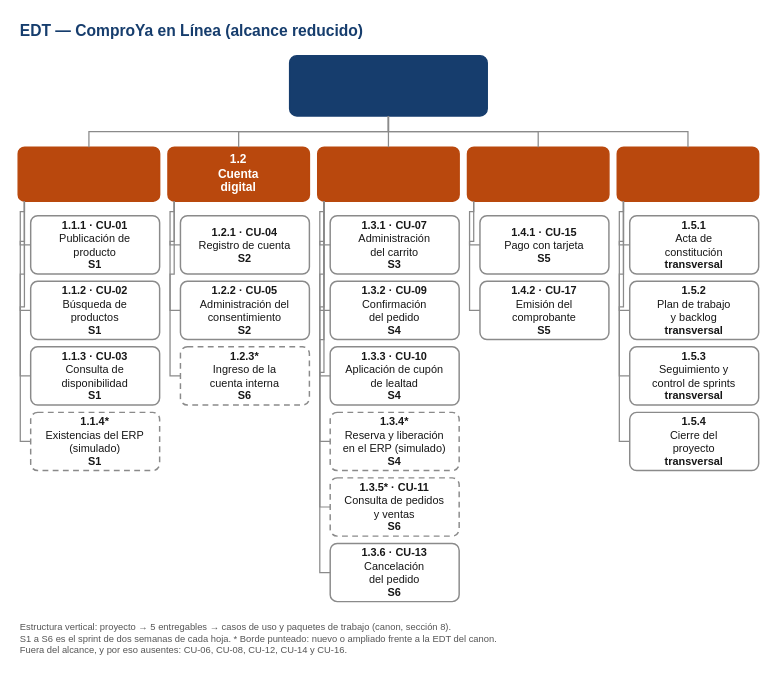
Image size: 778x687. Some labels were removed from this diagram. The shapes that lost their labels are listed below. From the top down, each one's centre as x and y in pixels, then its label:
point 387,85: 1.0 ComproYa en Línea Canal de venta digital B2C
point 88,173: 1.1 Catálogo digital
point 387,173: 1.3 Carrito y pedido
point 537,173: 1.4 Pago
point 687,173: 1.5 Gerencia del proyecto
